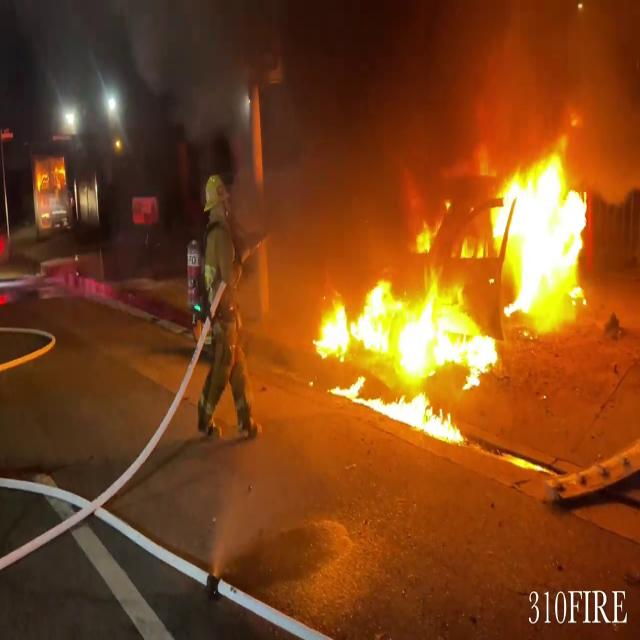Fire: (307, 250, 499, 442), (485, 139, 595, 327)
